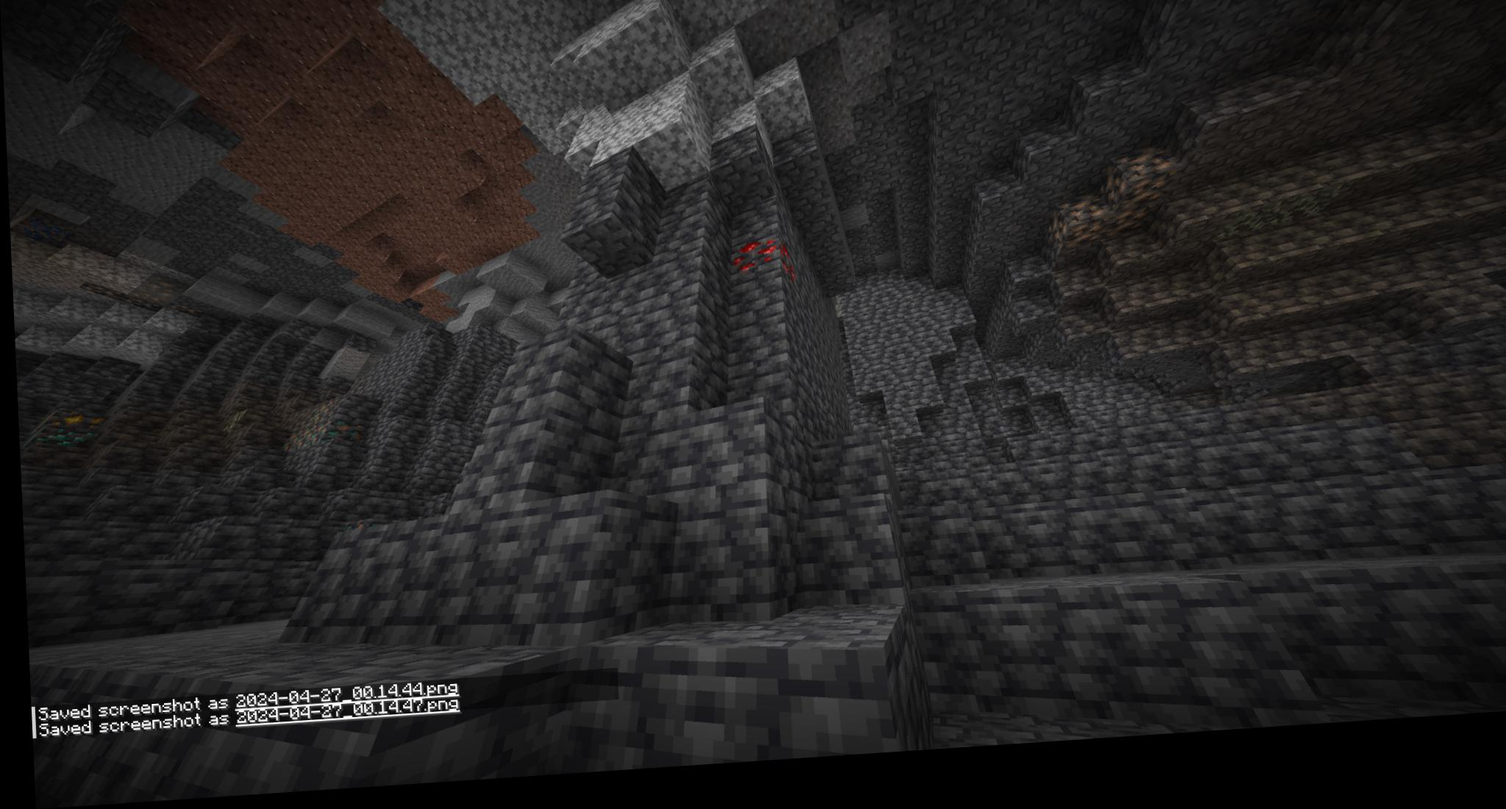diamond ore: (23, 423, 92, 464)
gold ore: (46, 401, 106, 436)
iron ore: (1057, 167, 1157, 271)
redstone ore: (722, 244, 791, 288)
